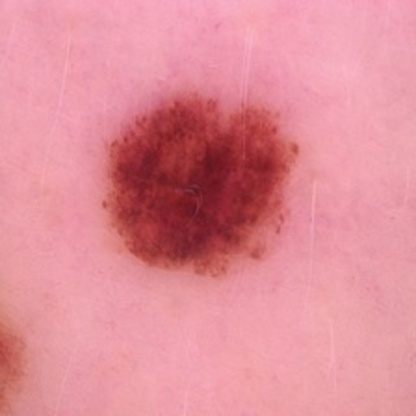benign: (111, 119, 296, 273)
